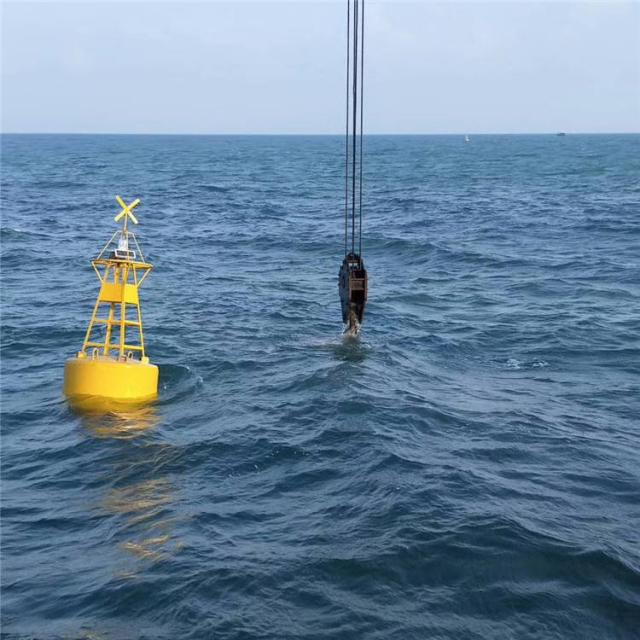buoy: (59, 190, 164, 412)
